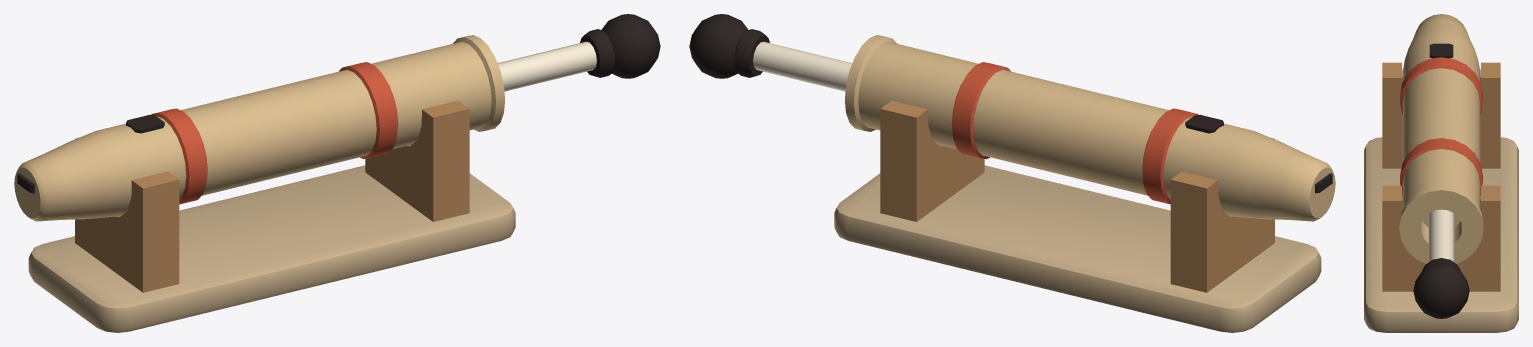
File: slide_whistle.glb
The picture shows the model from 3 angles, left to right: view 1: azimuth 30°, elevation 25°; view 2: azimuth 150°, elevation 25°; view 3: azimuth 270°, elevation 25°; orthographic projection. The views are drawn at different scales.
Parts seen in each view (by area): view 1: Whistle, Slide; view 2: Whistle, Slide; view 3: Whistle, Slide.
Boxes of the visible parts, x1,y1,x2,y2 form: Whistle: [14, 35, 515, 332]; Slide: [497, 14, 660, 91]; Whistle: [834, 35, 1335, 332]; Slide: [689, 14, 852, 91]; Whistle: [1364, 14, 1518, 332]; Slide: [1413, 209, 1469, 318].
Size of the model in its own units: 0.1395 by 0.0353 by 0.034.
